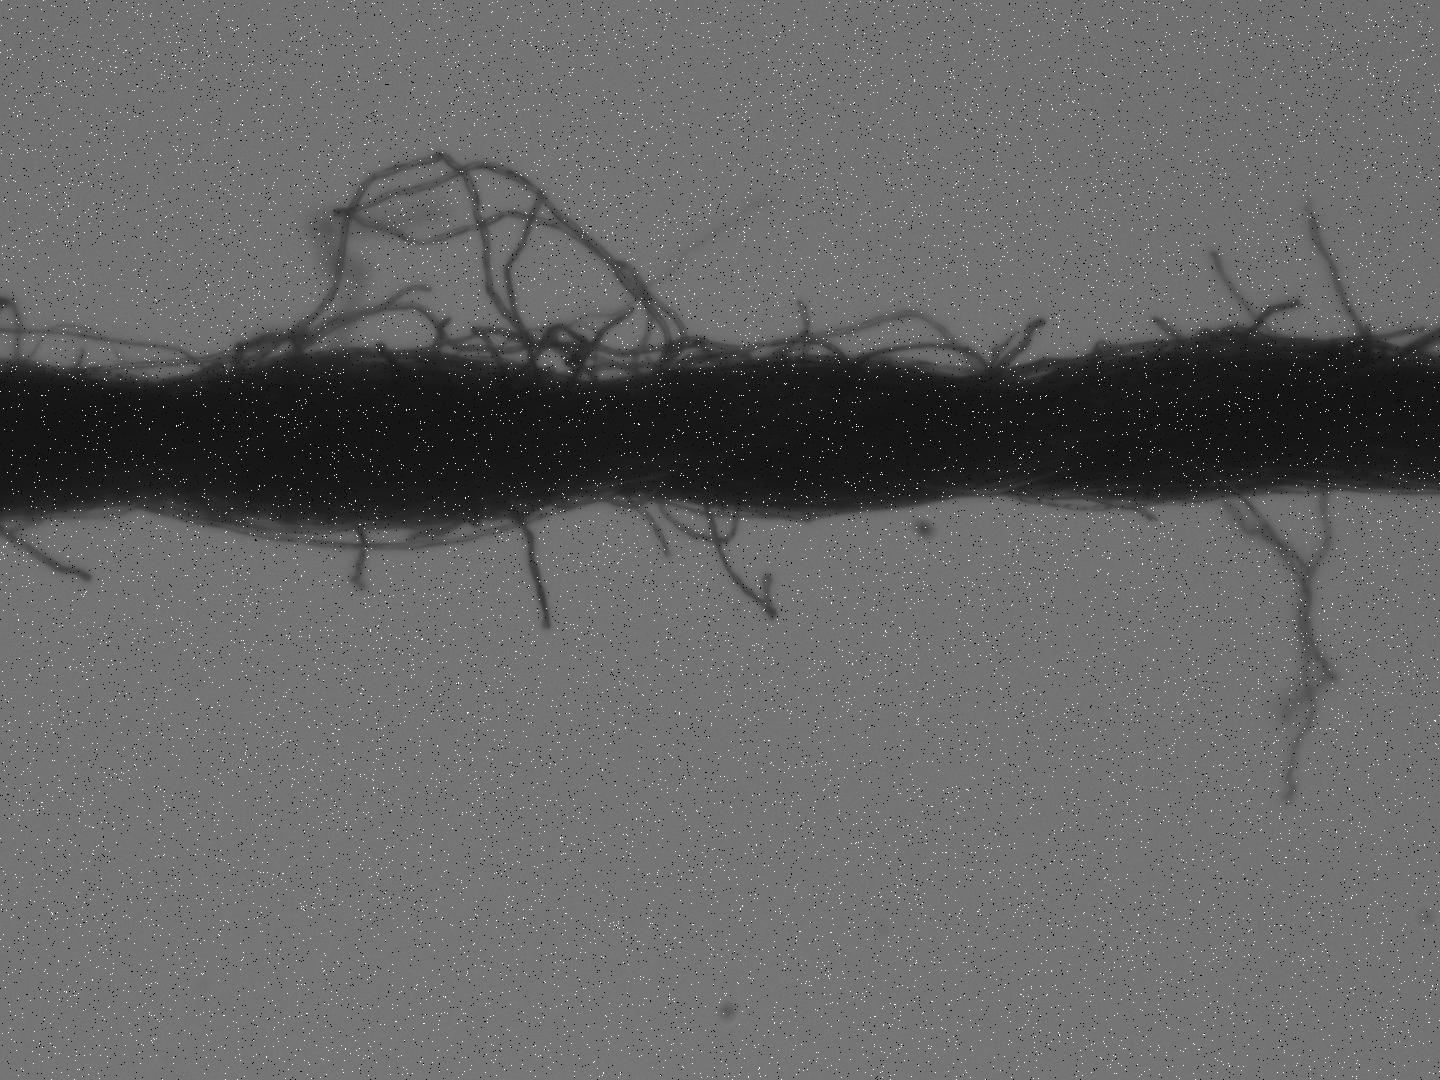loop_fiber: (261, 152, 544, 372), (279, 304, 727, 381), (223, 492, 588, 555), (683, 310, 998, 376), (524, 320, 672, 382), (852, 340, 996, 376), (696, 338, 840, 369), (642, 335, 749, 373), (658, 496, 737, 540), (231, 326, 304, 368), (595, 479, 662, 508)
protruding_fiber: (697, 489, 776, 619), (1307, 199, 1377, 343), (1, 523, 91, 584), (508, 511, 550, 631), (988, 311, 1047, 376), (1247, 296, 1306, 332), (350, 525, 370, 589), (1149, 315, 1184, 343)
